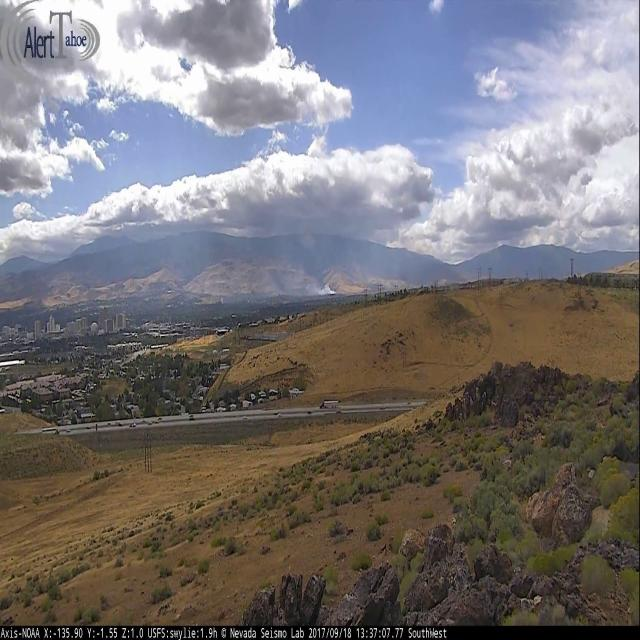smoke: (306, 280, 336, 294)
